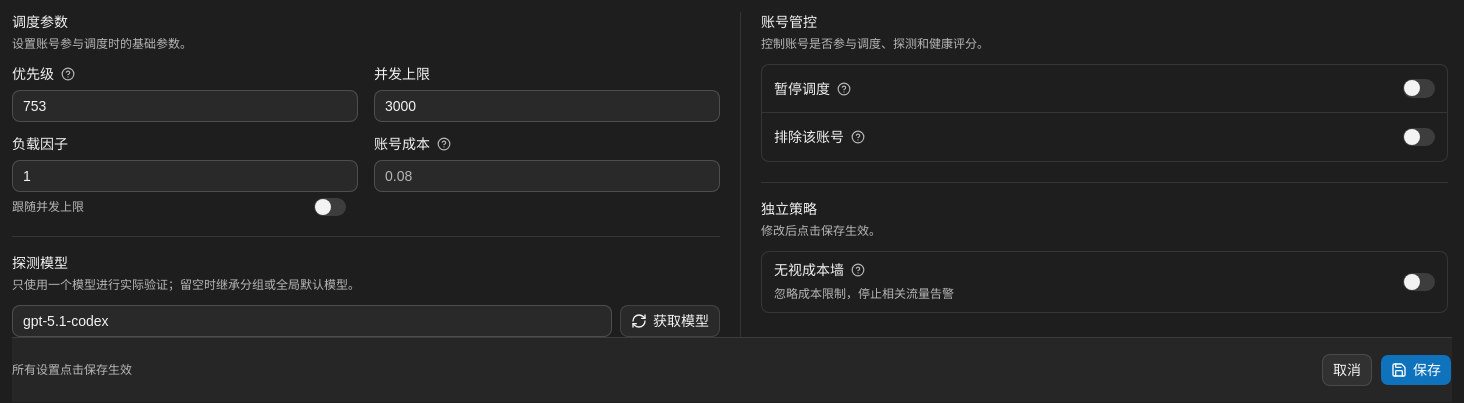
Scenario: 账号设置面板 › 获取模型后显示选择框，按钮保持简短文案且不在下方显示已读取数量
Click the button "获取模型" at [670, 321], box [620,305,720,337]
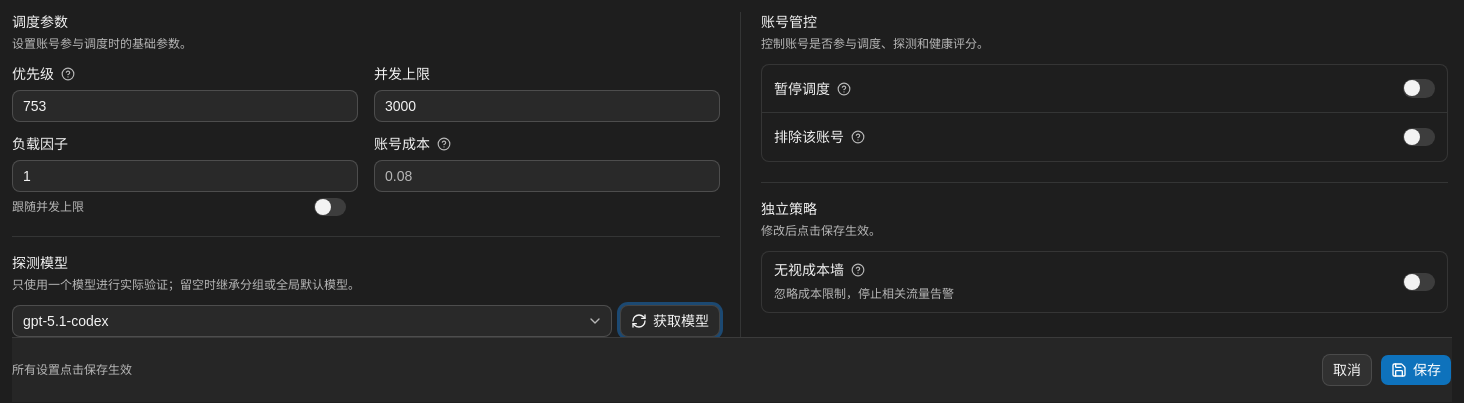
Now the dropdown named "选择探测模型" shows "gpt-5.1-codex", box [12,305,612,337]
